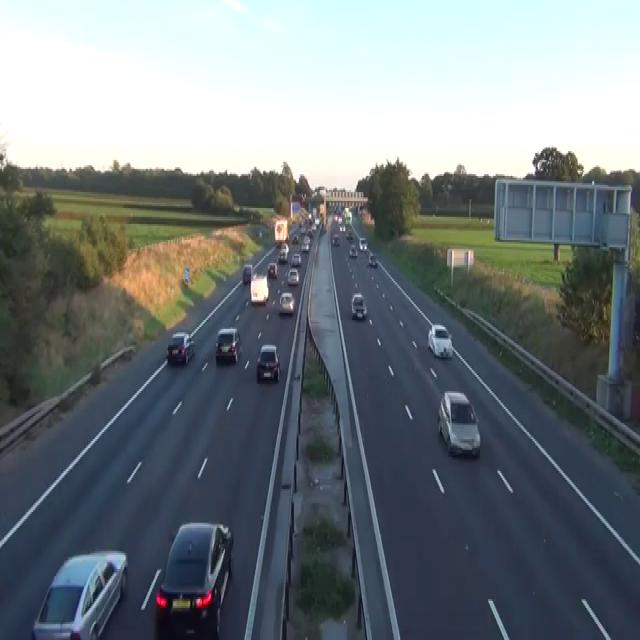Car: (155, 521, 233, 635), (31, 550, 128, 638), (437, 389, 480, 457), (214, 327, 242, 363), (166, 330, 195, 364), (256, 343, 280, 382), (427, 323, 452, 358), (351, 292, 367, 318), (278, 292, 294, 314), (242, 263, 252, 285), (287, 266, 299, 284), (278, 242, 288, 261), (267, 262, 278, 278), (291, 250, 301, 266), (300, 236, 309, 252), (358, 236, 368, 249), (368, 252, 377, 266), (277, 249, 286, 263), (349, 244, 357, 258), (331, 233, 340, 245), (346, 229, 353, 240), (292, 233, 299, 243), (306, 228, 313, 238), (299, 224, 306, 233), (321, 222, 326, 233), (314, 217, 319, 226), (339, 224, 345, 231), (308, 212, 312, 220), (258, 230, 262, 237)
Truck: (250, 274, 268, 304), (274, 218, 288, 244)
